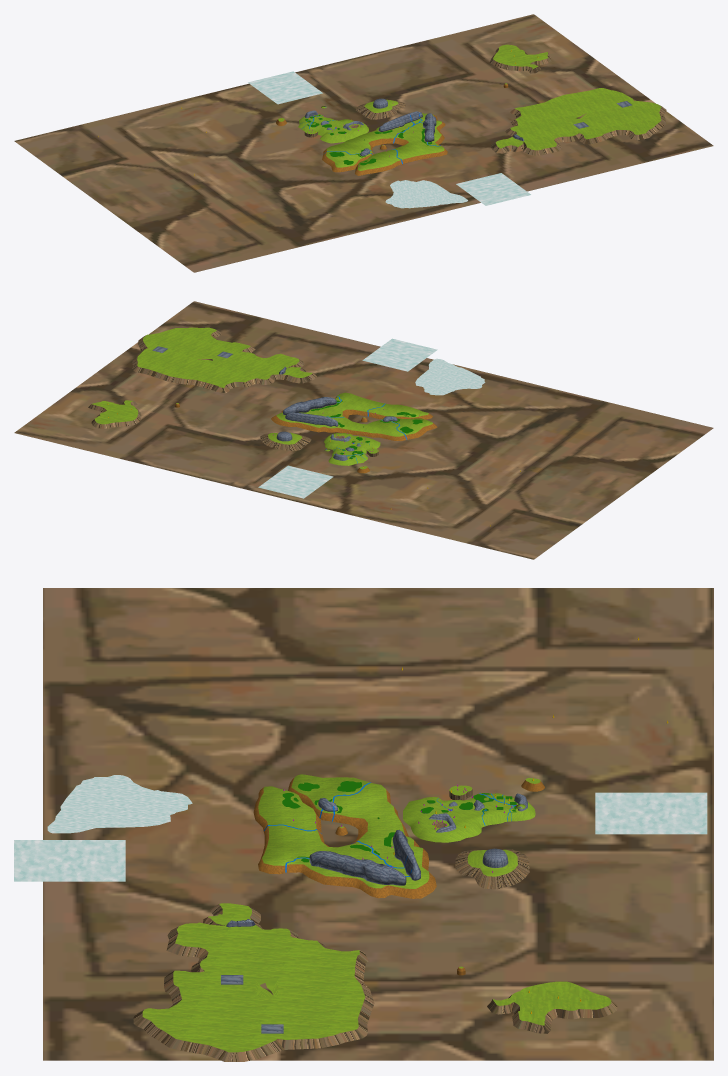
Rendered from geoss.glb.
The picture shows the model from 3 angles, top to bottom: view 1: azimuth 30°, elevation 25°; view 2: azimuth 150°, elevation 25°; view 3: azimuth 270°, elevation 25°; orthographic projection. The views are drawn at different scales.
Parts seen in each view (by area): view 1: Seabed, Terrapim, Decapos, Sutre, Sutre2, Notre, Lagos, Peku, DragonIsle; view 2: Seabed, Terrapim, Decapos, Sutre, Sutre2, Notre, Lagos, Peku, DragonIsle; view 3: Seabed, Terrapim, Decapos, Sutre, Notre, Sutre2, Lagos, Peku, DragonIsle.
Boxes of the visible parts, bbox=[...] form: Seabed: bbox=[14, 14, 713, 272]; Terrapim: bbox=[491, 88, 666, 155]; Decapos: bbox=[322, 111, 447, 175]; Sutre: bbox=[385, 180, 467, 208]; Sutre2: bbox=[456, 173, 530, 205]; Notre: bbox=[248, 71, 322, 104]; Lagos: bbox=[298, 110, 368, 143]; Peku: bbox=[490, 44, 551, 73]; DragonIsle: bbox=[356, 98, 406, 119]; Seabed: bbox=[14, 301, 713, 559]; Terrapim: bbox=[132, 327, 316, 393]; Decapos: bbox=[271, 392, 437, 440]; Sutre: bbox=[415, 358, 485, 395]; Sutre2: bbox=[362, 338, 437, 371]; Notre: bbox=[258, 465, 333, 498]; Lagos: bbox=[324, 433, 380, 465]; Peku: bbox=[88, 400, 141, 428]; DragonIsle: bbox=[260, 431, 311, 450]; Seabed: bbox=[43, 588, 713, 1060]; Terrapim: bbox=[133, 903, 374, 1061]; Decapos: bbox=[253, 774, 436, 898]; Sutre: bbox=[47, 775, 192, 833]; Notre: bbox=[595, 792, 707, 834]; Sutre2: bbox=[14, 840, 125, 881]; Lagos: bbox=[403, 793, 535, 842]; Peku: bbox=[487, 981, 617, 1033]; DragonIsle: bbox=[455, 848, 529, 889].
Size of the model in its own units: 5.02 by 0.1015 by 3.13.
10 materials, 6 textured.
